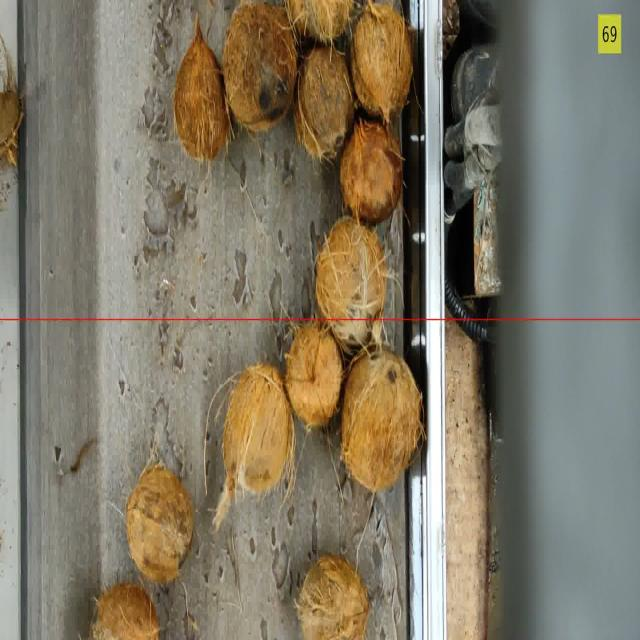Coconut-Conveyor-Belt: (215, 364, 294, 526), (342, 350, 423, 491), (223, 3, 297, 132), (316, 217, 386, 351), (126, 465, 194, 583), (174, 17, 229, 161), (351, 3, 412, 122), (294, 47, 354, 159), (340, 121, 402, 223), (285, 322, 342, 429), (297, 556, 369, 639), (90, 583, 159, 639), (0, 37, 23, 165), (286, 0, 354, 43)
